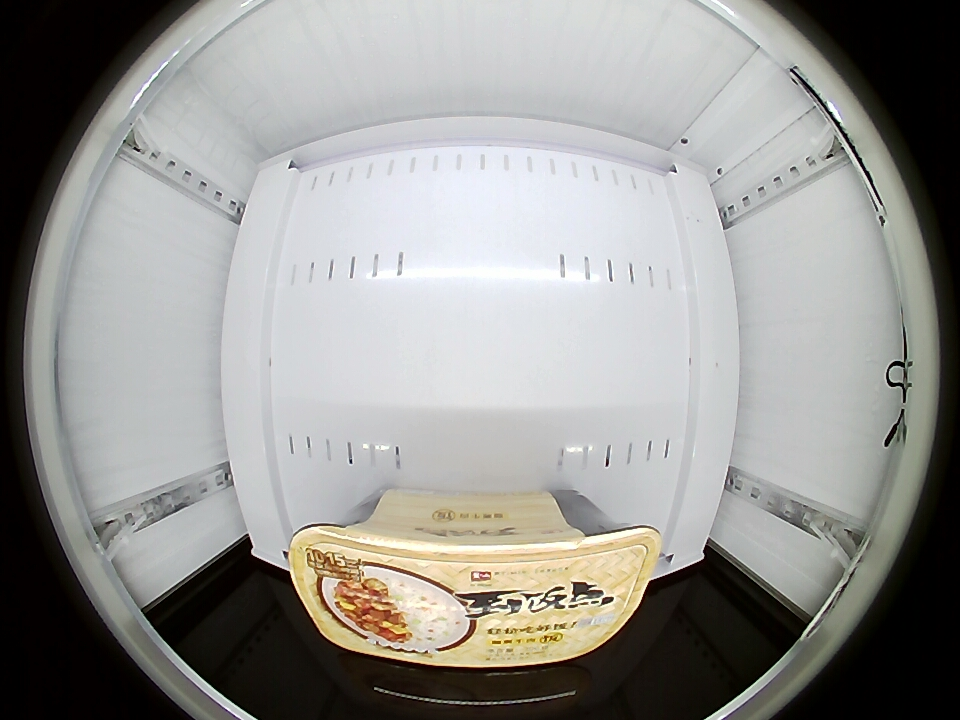daofandian2: (288, 489, 658, 669)
